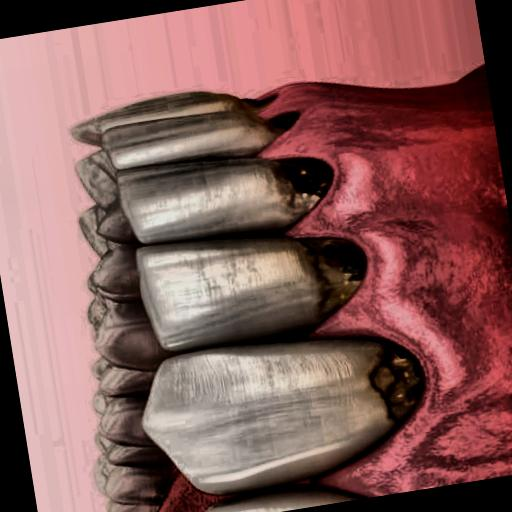Caries: (275, 202, 396, 336), (342, 335, 453, 451), (248, 127, 350, 235), (214, 51, 292, 160)
